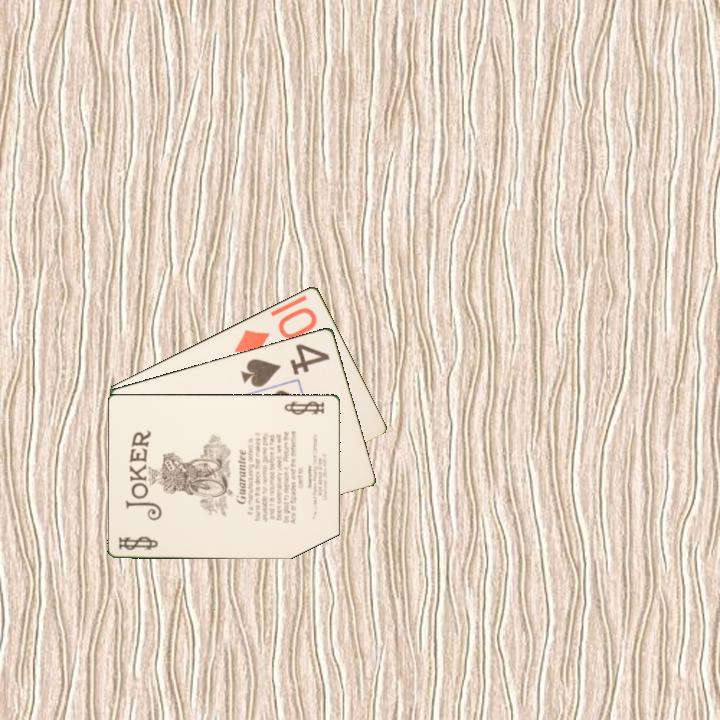10d: (230, 303, 320, 358)
4s: (237, 340, 333, 390)
JK: (115, 532, 161, 553), (281, 397, 328, 417)
